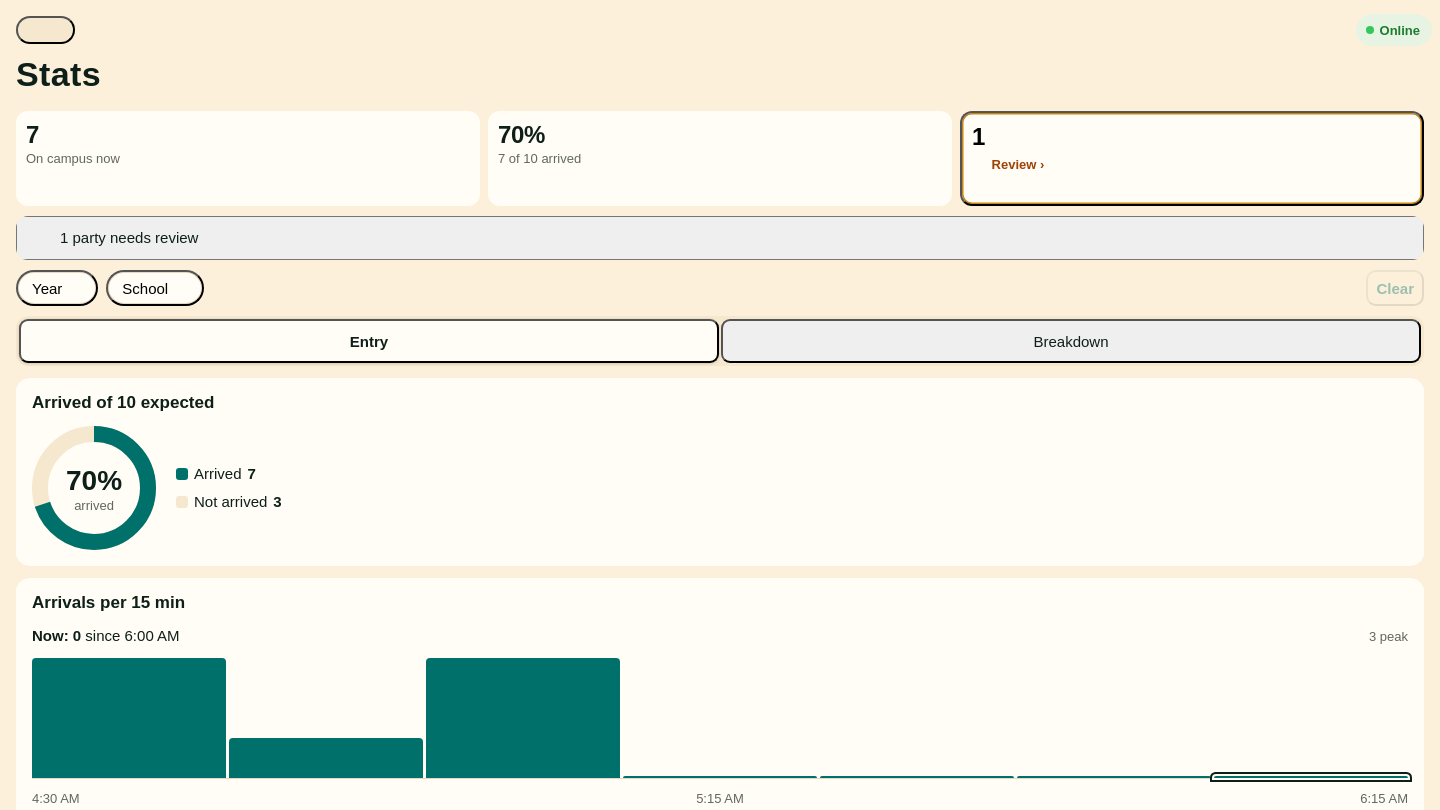
Test: Breakdown tab › puts everyone on campus in the right decade
Step 1. Click the button "Breakdown" → (1071, 341), box [721,319,1421,363]
(page scrolled)
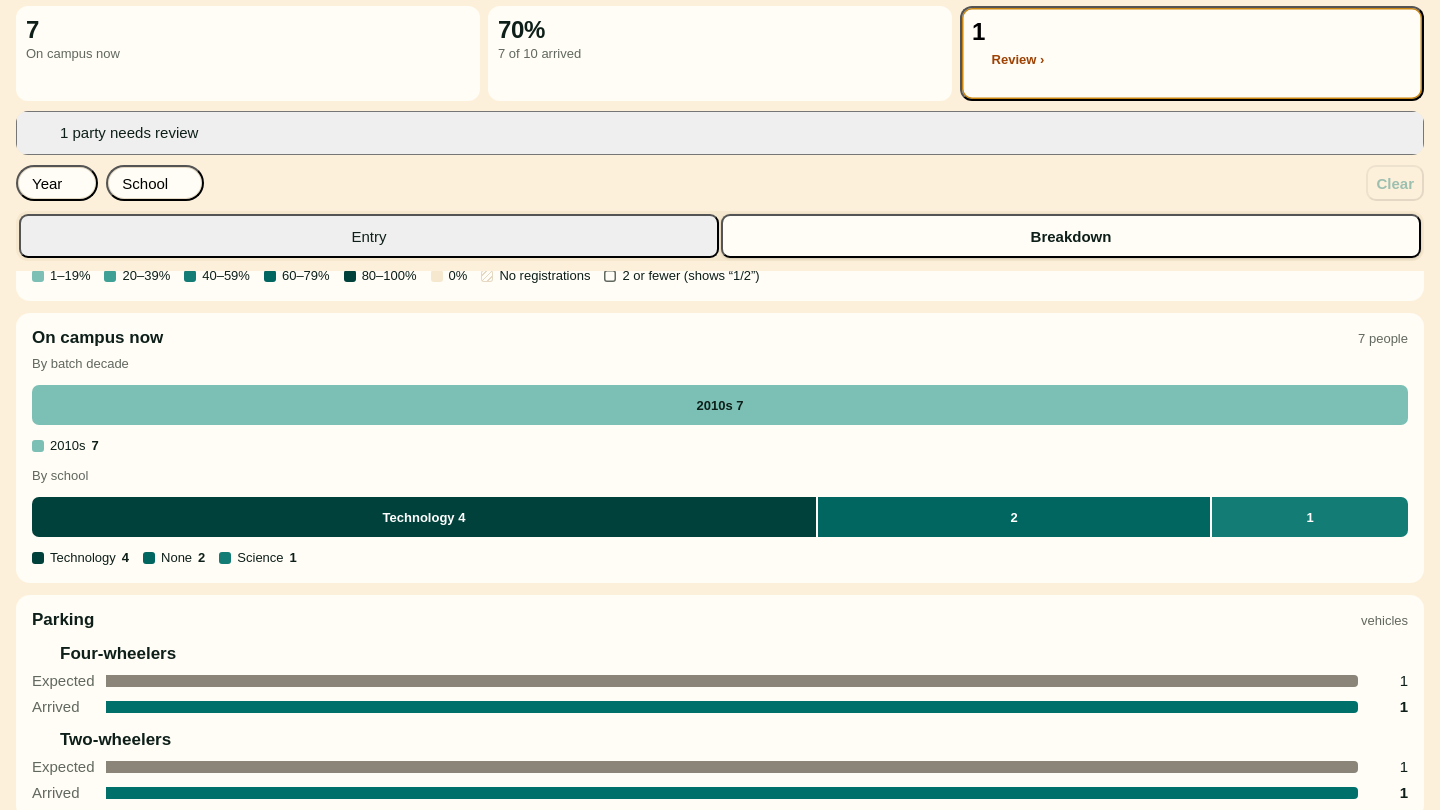
Now the picture named "On campus by decade: 2010s 7" is shown, box [32,385,1408,425]
